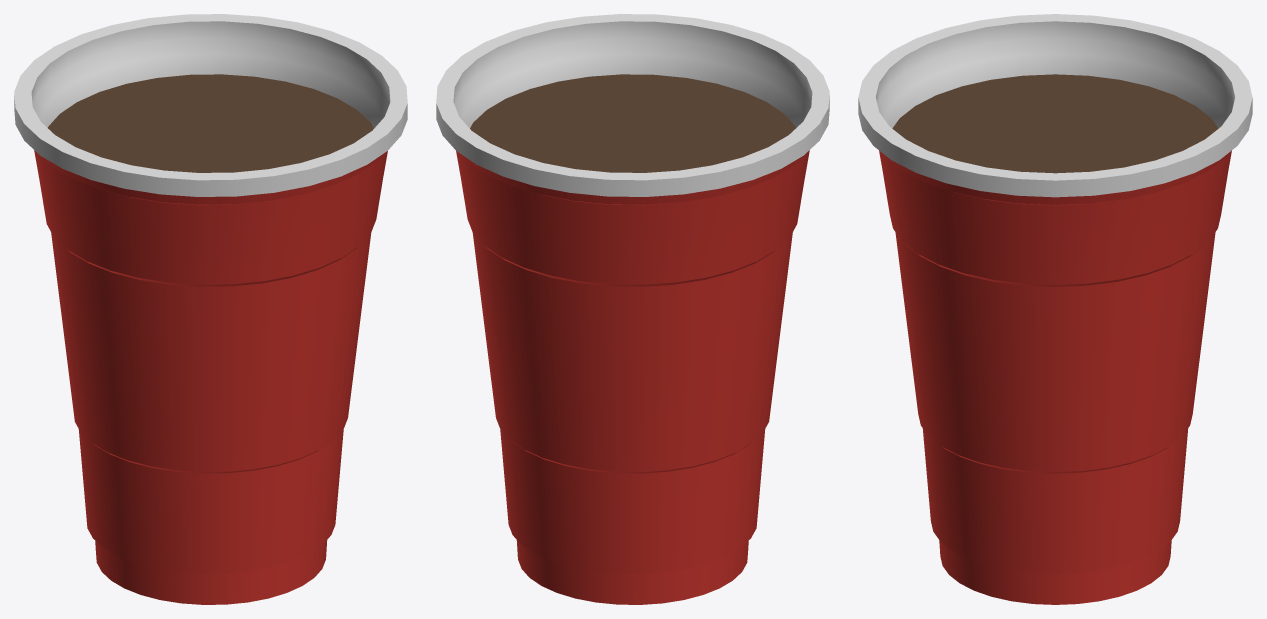
The model's file is plastic_cup.fbx.
The picture shows the model from 3 angles, left to right: view 1: azimuth 30°, elevation 25°; view 2: azimuth 150°, elevation 25°; view 3: azimuth 270°, elevation 25°; orthographic projection.
Visible parts, largest first — view 1: Cup with Soil; view 2: Cup with Soil; view 3: Cup with Soil.
Part boxes in pixels (left/top/right/bottom): Cup with Soil: left=14, top=14, right=407, bottom=604; Cup with Soil: left=436, top=14, right=829, bottom=604; Cup with Soil: left=858, top=14, right=1252, bottom=604.
Bounding box in the file's own units: 360 × 463 × 360.
